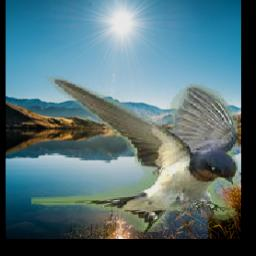Swallow: (31, 75, 238, 233)
